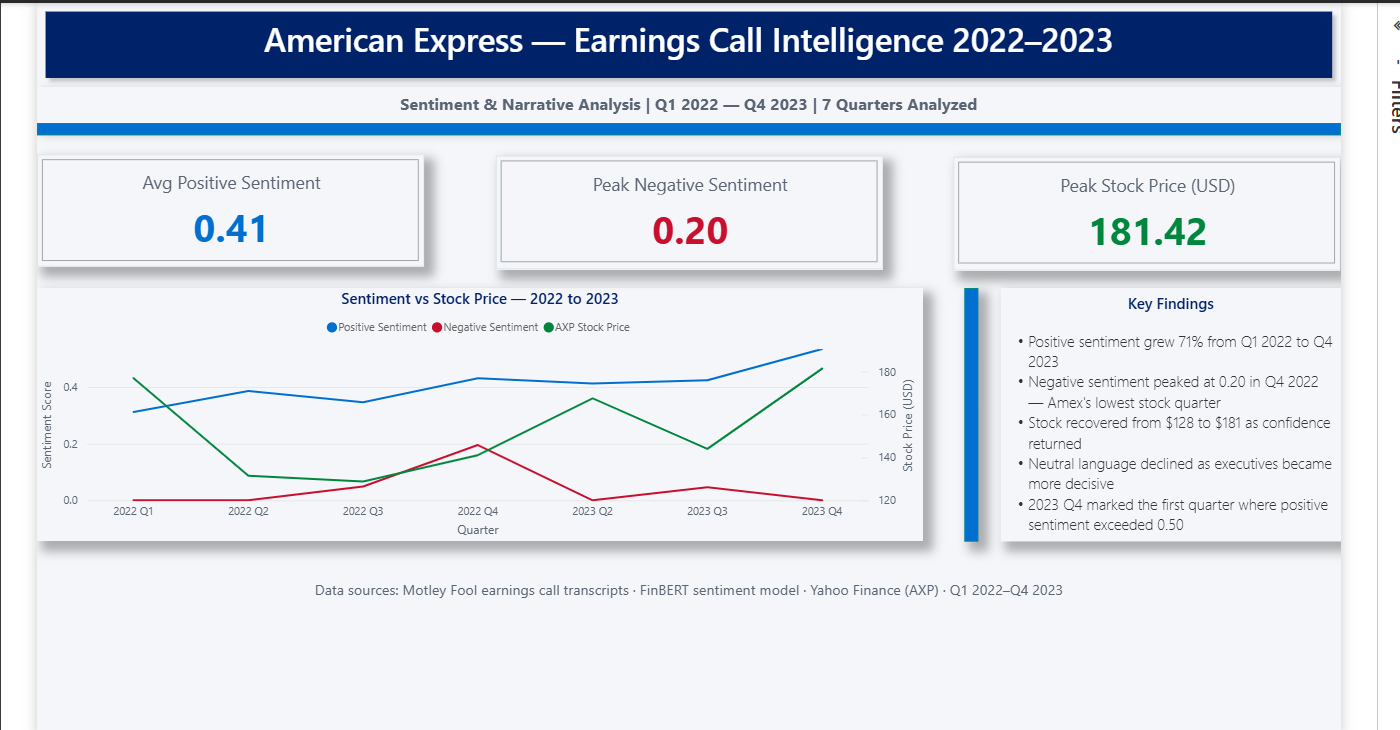

This screenshot's page, from the dashboard's own definition file:
{"tool":"powerbi","page":{"name":"Executive Summary","canvas":[1280,720],"ordinal":0},"visuals":[{"type":"shape","box":[0,0,1279.8,82],"z":0},{"type":"textbox","box":[0,8.6,1279.8,63.8],"z":1000},{"type":"textbox","box":[0,82.2,1279.8,35.6],"z":2000},{"type":"shape","box":[0,117.8,1279.8,12.3],"z":3000},{"type":"shape","box":[0,148.5,380.4,110.4],"z":4000},{"type":"shape","box":[450.3,149.7,380.4,111.7],"z":5000},{"type":"shape","box":[899.4,150.9,380.4,111.7],"z":6000},{"type":"cardVisual","fields":{"Data":["Avg(amex_sentiment_vs_stock.positive)"]},"box":[0,148.5,380.4,110.4],"z":7000},{"type":"cardVisual","fields":{"Data":["Max(amex_sentiment_vs_stock.negative)"]},"box":[450.3,149.7,380.4,110.4],"z":8000},{"type":"cardVisual","fields":{"Data":["Max(amex_sentiment_vs_stock.Close)"]},"box":[899.4,150.9,380.4,110.4],"z":9000},{"type":"lineChart","title":"Sentiment vs Stock Price — 2022 to 2023","fields":{"Category":["amex_sentiment_vs_stock.quarter"],"Y":["Avg(amex_sentiment_vs_stock.positive)","Avg(amex_sentiment_vs_stock.negative)"],"Y2":["Max(amex_sentiment_vs_stock.Close)"]},"box":[0,279.8,869.9,249.1],"z":10000},{"type":"shape","box":[946,279.8,333.7,249.1],"z":11000},{"type":"textbox","box":[946,279.8,333.7,36.8],"z":12000},{"type":"textbox","box":[946,316.6,333.7,212.3],"z":13000},{"type":"shape","box":[910.4,279.8,13.5,249.1],"z":14000},{"type":"textbox","box":[0,560.7,1279.8,41.7],"z":15000}]}

Visuals, with their boxes on the page's 1280x720 design canvas (x1, y1, x2, y2). These are canvas units, not pixel positions in the 1400x730 screenshot, which may show the page scaled, cropped or inside an application window:
shape: locate(0, 0, 1280, 82)
textbox: locate(0, 9, 1280, 72)
textbox: locate(0, 82, 1280, 118)
shape: locate(0, 118, 1280, 130)
shape: locate(0, 148, 380, 259)
shape: locate(450, 150, 831, 261)
shape: locate(899, 151, 1280, 263)
cardVisual - Avg(amex_sentiment_vs_stock.positive): locate(0, 148, 380, 259)
cardVisual - Max(amex_sentiment_vs_stock.negative): locate(450, 150, 831, 260)
cardVisual - Max(amex_sentiment_vs_stock.Close): locate(899, 151, 1280, 261)
"Sentiment vs Stock Price — 2022 to 2023" lineChart: locate(0, 280, 870, 529)
shape: locate(946, 280, 1280, 529)
textbox: locate(946, 280, 1280, 317)
textbox: locate(946, 317, 1280, 529)
shape: locate(910, 280, 924, 529)
textbox: locate(0, 561, 1280, 602)
